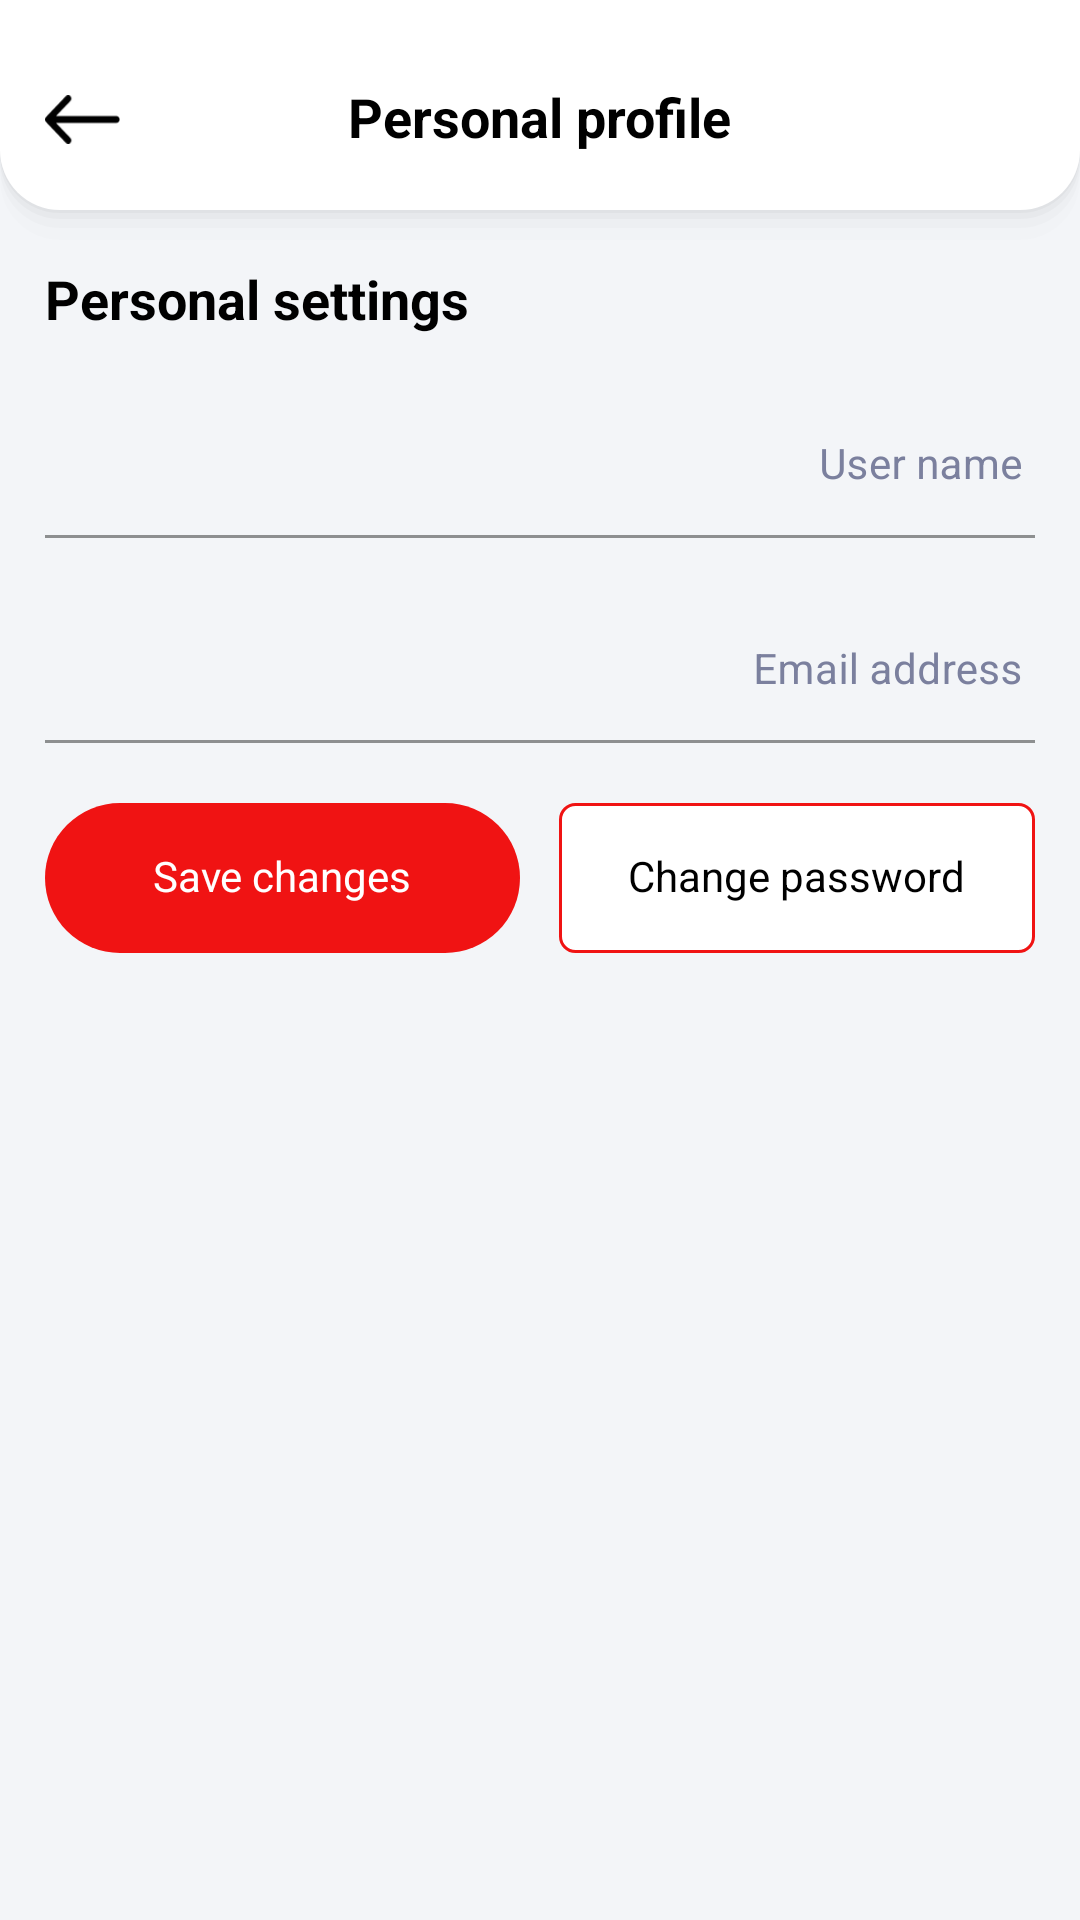

Icons on this 1080 x 1920 Android screen, each with its box as (x1, y1, x2, y2):
back: (45, 95, 120, 144)
